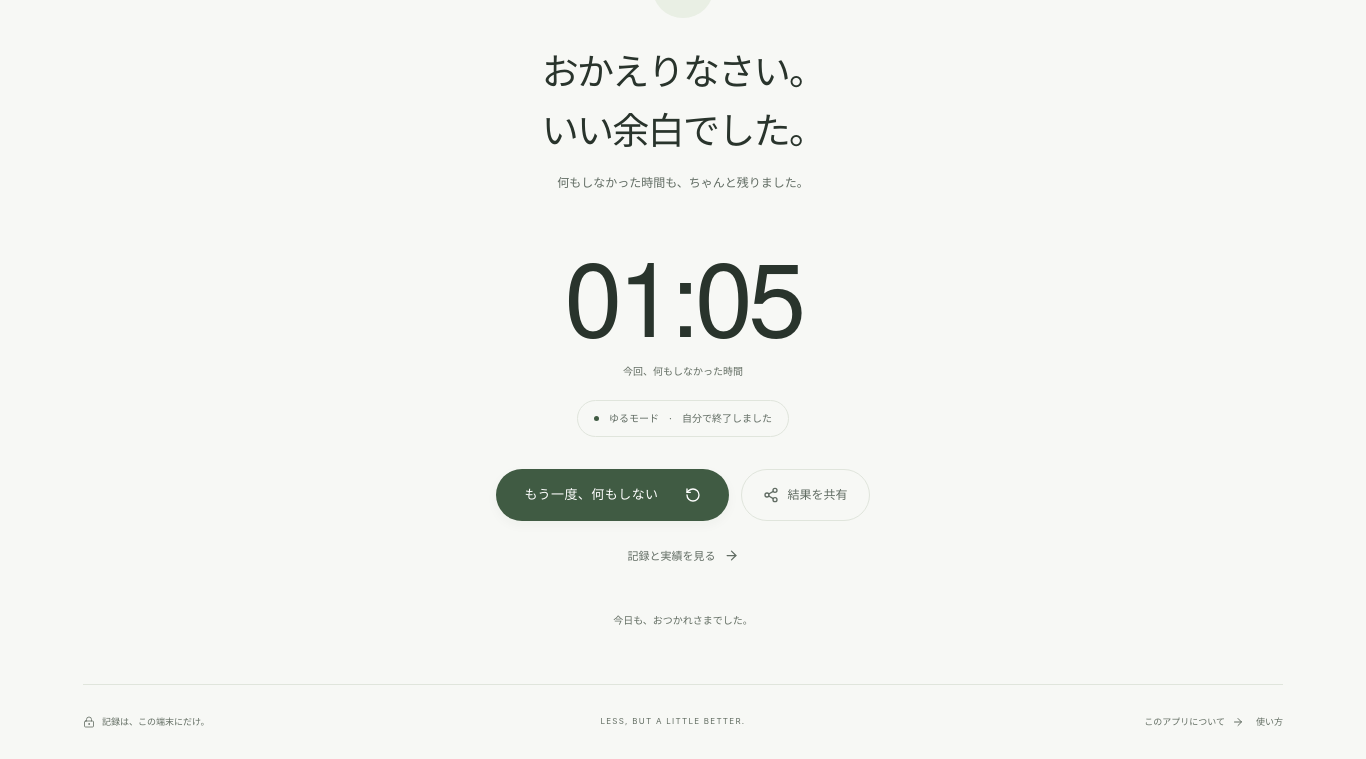
Test case: result sharing › closes the manual fallback and counts one share after a successful copy retry
(page scrolled)
Click the button "結果を共有". click: [805, 495]
box: top-left (741, 469), bottom-right (870, 521)
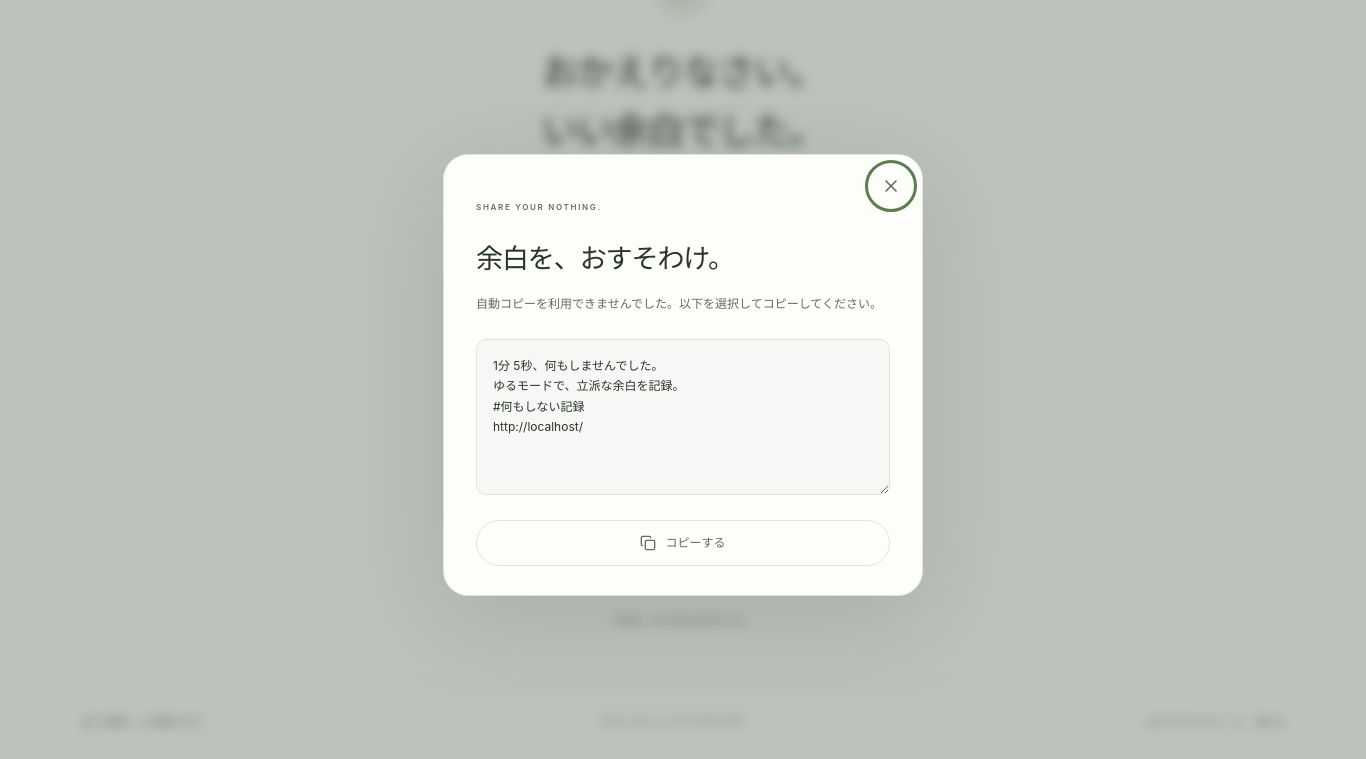
Click the button "コピーする". click: [683, 543]
box: top-left (476, 520), bottom-right (890, 566)
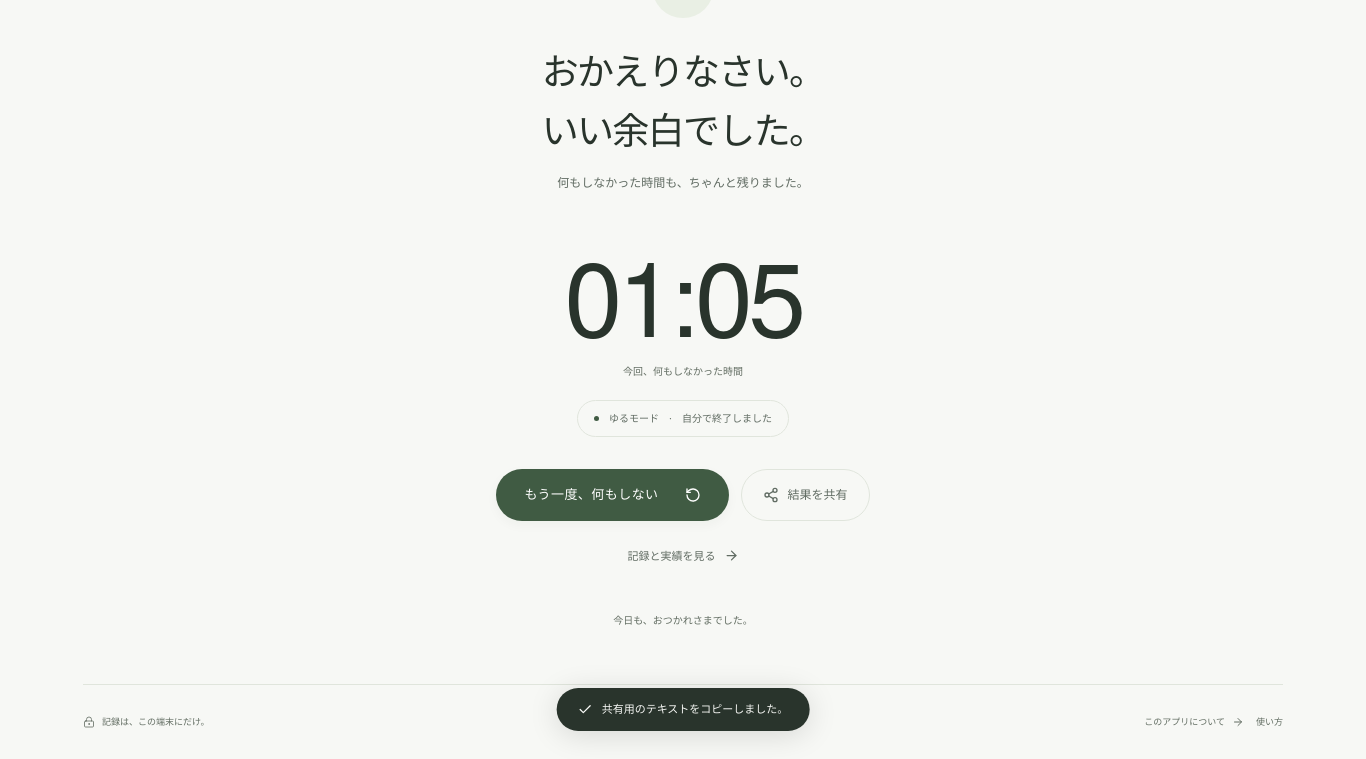
Expected: the dialog is gone
Expected: the text "共有用のテキストをコピーしました。" is shown, top-left (557, 688), bottom-right (809, 731)
